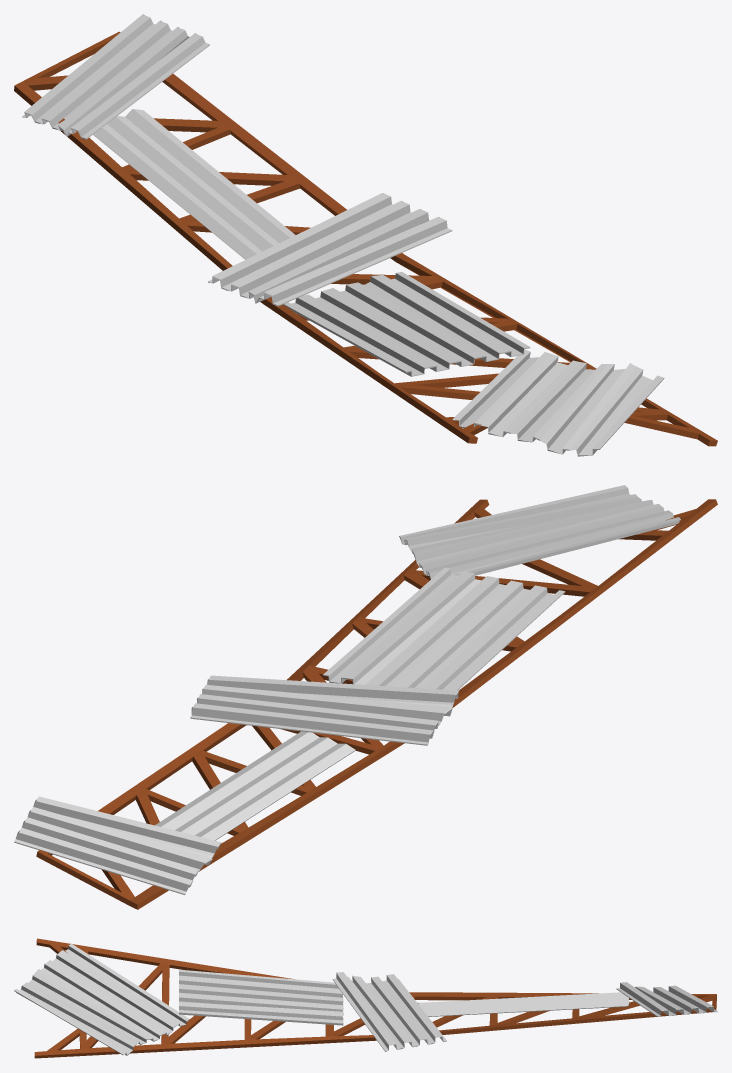
Rendered from ScrapBridge 1.fbx.
The picture shows the model from 3 angles, top to bottom: view 1: azimuth 30°, elevation 25°; view 2: azimuth 150°, elevation 25°; view 3: azimuth 270°, elevation 25°; orthographic projection. The views are drawn at different scales.
Parts seen in each view (by area): view 1: scrap brifge; view 2: scrap brifge; view 3: scrap brifge.
Boxes of the visible parts, left/top/right/bottom form: scrap brifge: left=14, top=14, right=717, bottom=456; scrap brifge: left=14, top=485, right=717, bottom=909; scrap brifge: left=14, top=938, right=717, bottom=1058.
Size of the model in its own units: 967 by 235 by 3474.
